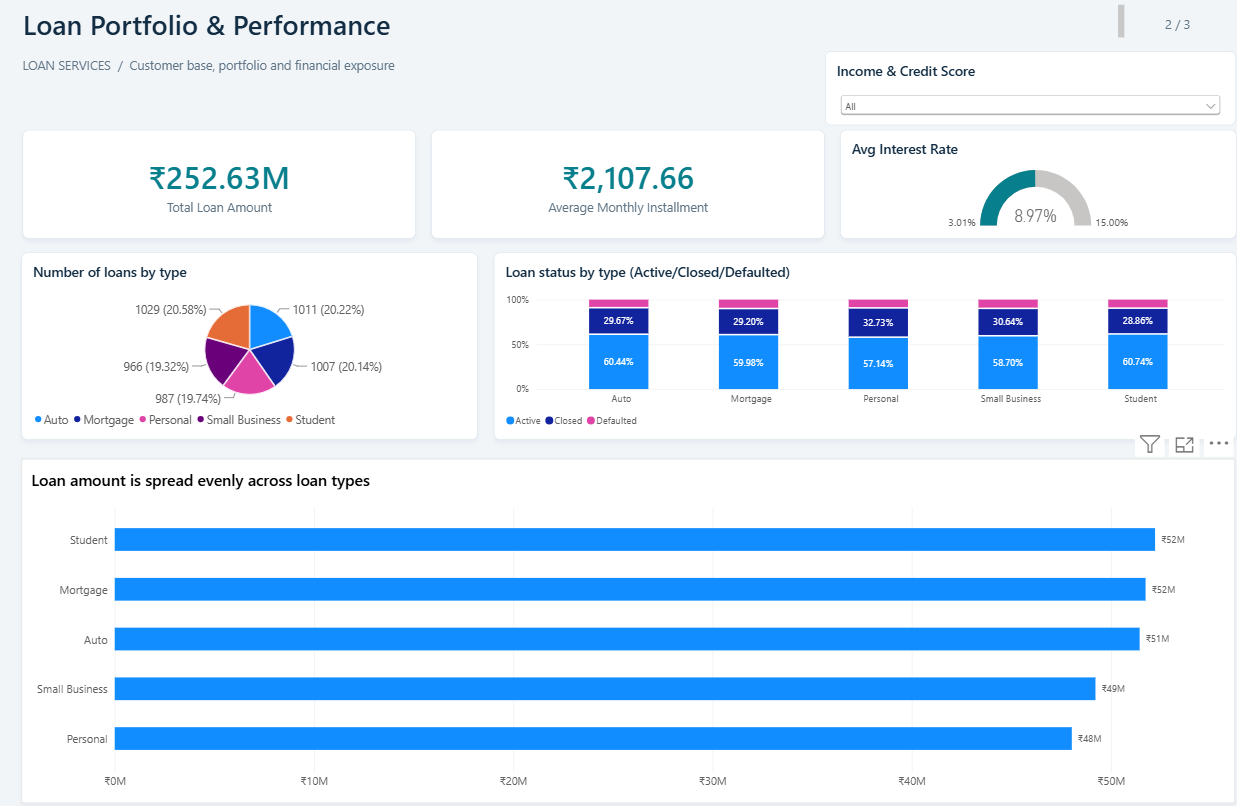

This screenshot's page, from the dashboard's own definition file:
{"tool":"powerbi","page":{"name":"Loan Portfolio & Performance","canvas":[1600,1040],"ordinal":1},"visuals":[{"type":"textbox","box":[28,18,1400,44],"z":15},{"type":"textbox","box":[1480,30,92,26],"z":15},{"type":"slicer","title":"Income & Credit Score","fields":{"Values":["Customer_Details.Income Buckets","Customer_Details.Credit Score Buckets"]},"box":[1048,76,522,94],"z":15},{"type":"textbox","box":[28,83,960,28],"z":15},{"type":"card","fields":{"Values":["Sum(Loan_Details.Loan_Amount)"]},"box":[28,176,500,138],"z":15},{"type":"card","fields":{"Values":["Avg(Loan_Details.Monthly_Installment)"]},"box":[548,176,500,138],"z":15},{"type":"gauge","title":"Avg Interest Rate","fields":{"MaxValue":["Max(Loan_Details.Interest_Rate)"],"MinValue":["Min(Loan_Details.Interest_Rate)"],"Y":["Avg(Loan_Details.Interest_Rate)"]},"box":[1068,176,504,138],"z":15},{"type":"pieChart","title":"Number of loans by type","fields":{"Category":["Loan_Details.Loan_Type"],"Y":["CountNonNull(Loan_Details.Loan_ID)"]},"box":[27.5,331.9,580,238],"z":15},{"type":"hundredPercentStackedColumnChart","title":"Loan status by type (Active/Closed/Defaulted)","fields":{"Category":["Loan_Details.Loan_Type"],"Series":["Loan_Details.Status"],"Y":["CountNonNull(Loan_Details.Loan_ID)"]},"box":[628,331.9,944,238],"z":15},{"type":"textbox","box":[28,1008,1540,24],"z":15},{"type":"clusteredBarChart","title":"Loan amount is spread evenly across loan types","fields":{"Category":["Loan_Details.Loan_Type"],"Y":["Sum(Loan_Details.Loan_Amount)"]},"box":[27.5,593.3,1542.5,438.5],"z":16}]}

Visuals, with their boxes in screenshot pixels (x1, y1, x2, y2), scaled from the page's 1600x1040 canvas onto the 1237x806 screenshot:
textbox: select_region(22, 14, 1104, 48)
textbox: select_region(1144, 23, 1215, 43)
"Income & Credit Score" slicer: select_region(810, 59, 1214, 132)
textbox: select_region(22, 64, 764, 86)
card - Sum(Loan_Details.Loan_Amount): select_region(22, 136, 408, 243)
card - Avg(Loan_Details.Monthly_Installment): select_region(424, 136, 810, 243)
"Avg Interest Rate" gauge: select_region(826, 136, 1215, 243)
"Number of loans by type" pieChart: select_region(21, 257, 470, 442)
"Loan status by type (Active/Closed/Defaulted)" hundredPercentStackedColumnChart: select_region(486, 257, 1215, 442)
textbox: select_region(22, 781, 1212, 800)
"Loan amount is spread evenly across loan types" clusteredBarChart: select_region(21, 460, 1214, 800)
